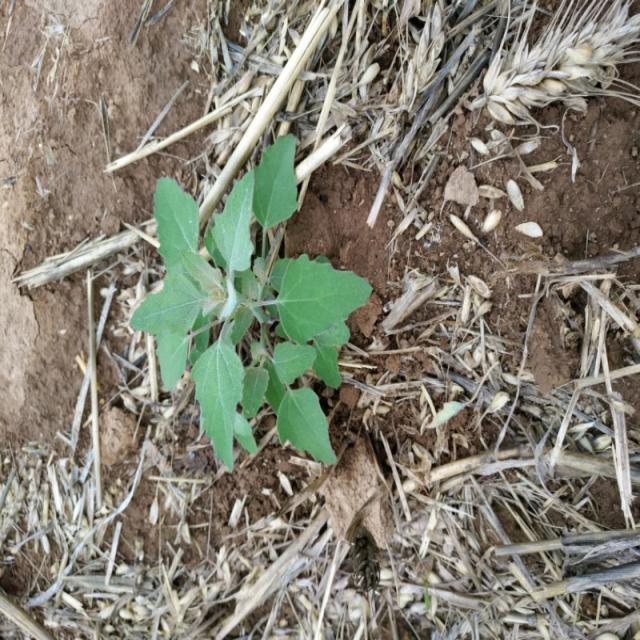goosefoots: (107, 164, 392, 479)
